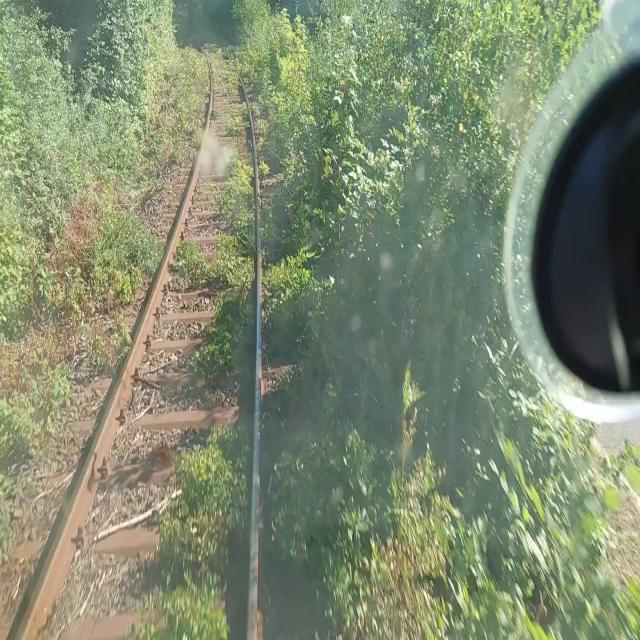Plant: (124, 423, 252, 639), (262, 180, 319, 588), (172, 146, 255, 382), (106, 225, 166, 362), (173, 40, 210, 167), (221, 43, 260, 87), (252, 87, 276, 152), (199, 41, 224, 92), (225, 101, 250, 142), (87, 335, 111, 376), (223, 61, 242, 99), (259, 159, 270, 181), (209, 107, 220, 121)
